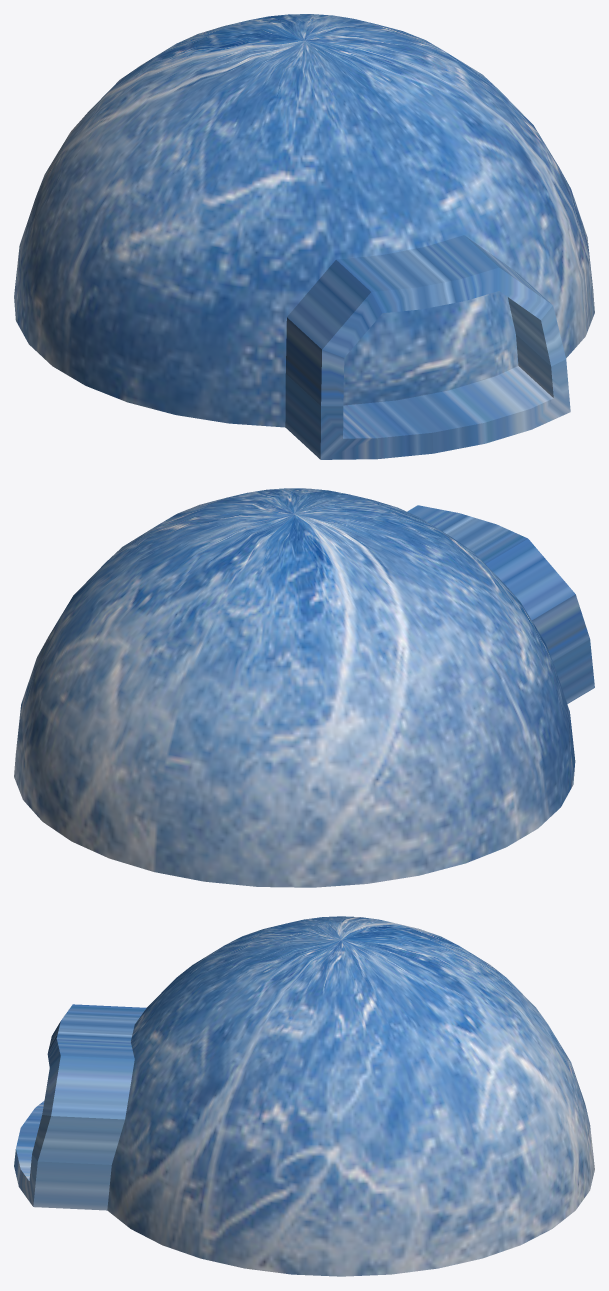
File: igloo.FBX
3 renders of one model, top to bottom at view 1: azimuth 30°, elevation 25°; view 2: azimuth 150°, elevation 25°; view 3: azimuth 270°, elevation 25°, orthographic. The views are drawn at different scales.
Visible parts, largest first — view 1: Sphere001; view 2: Sphere001; view 3: Sphere001.
Boxes of the visible parts, x1=… form: Sphere001: x1=14, y1=14, x2=594, y2=459; Sphere001: x1=14, y1=488, x2=594, y2=887; Sphere001: x1=14, y1=916, x2=594, y2=1276.
Bounding box in the file's own units: 100 × 50 × 115.
Materials: 1 (1 with a texture image).
